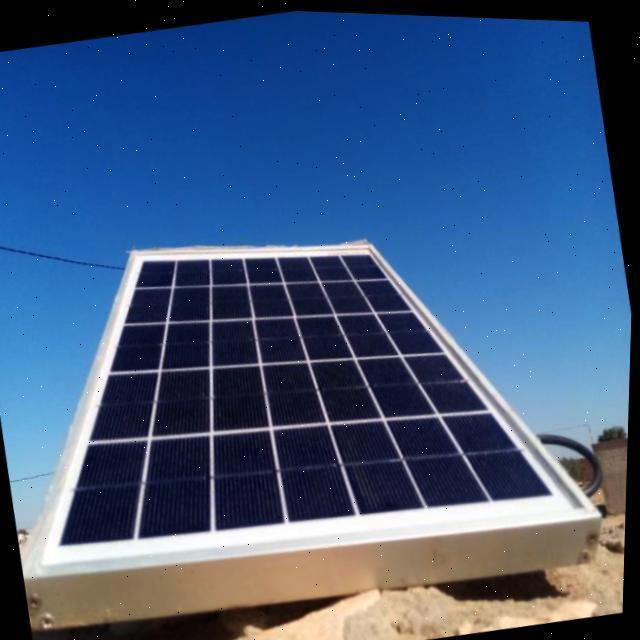Normal Solar Panel: (0, 172, 610, 615)
